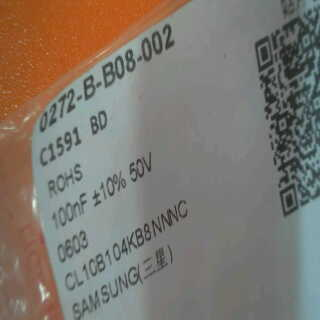100nF: (44, 190, 92, 230)
